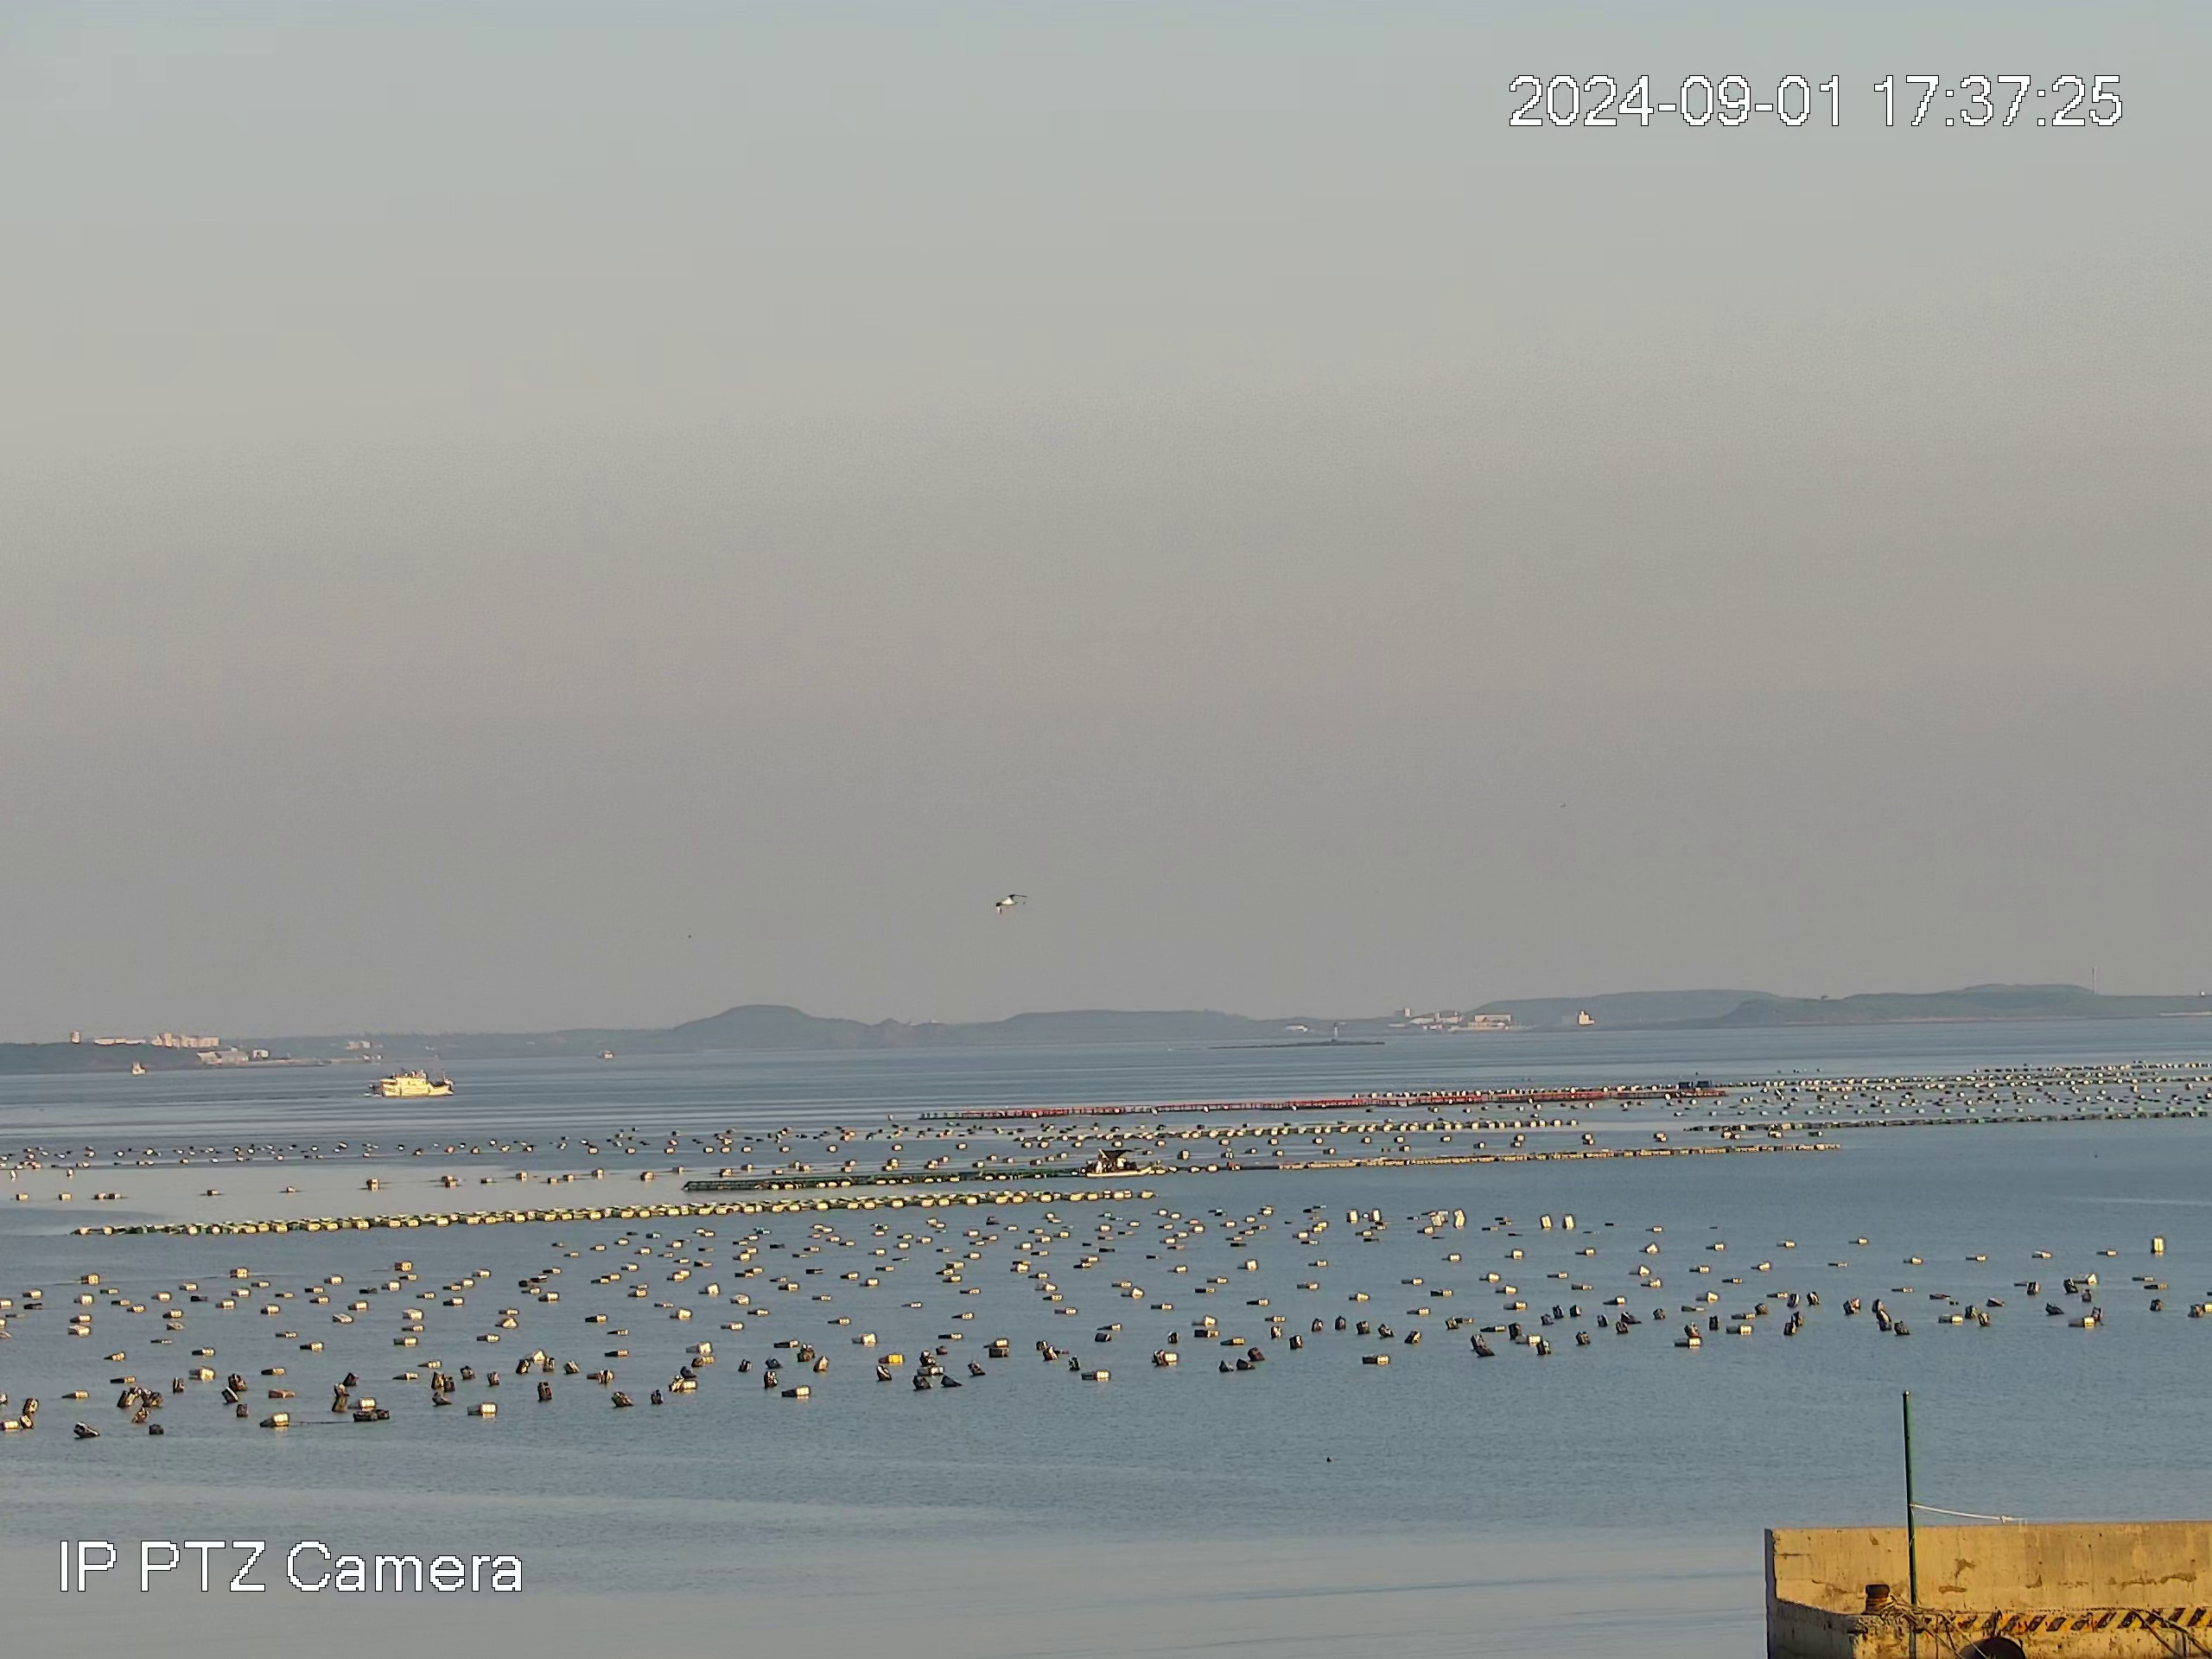boat: (368, 1066, 453, 1094), (1083, 1147, 1155, 1180)
